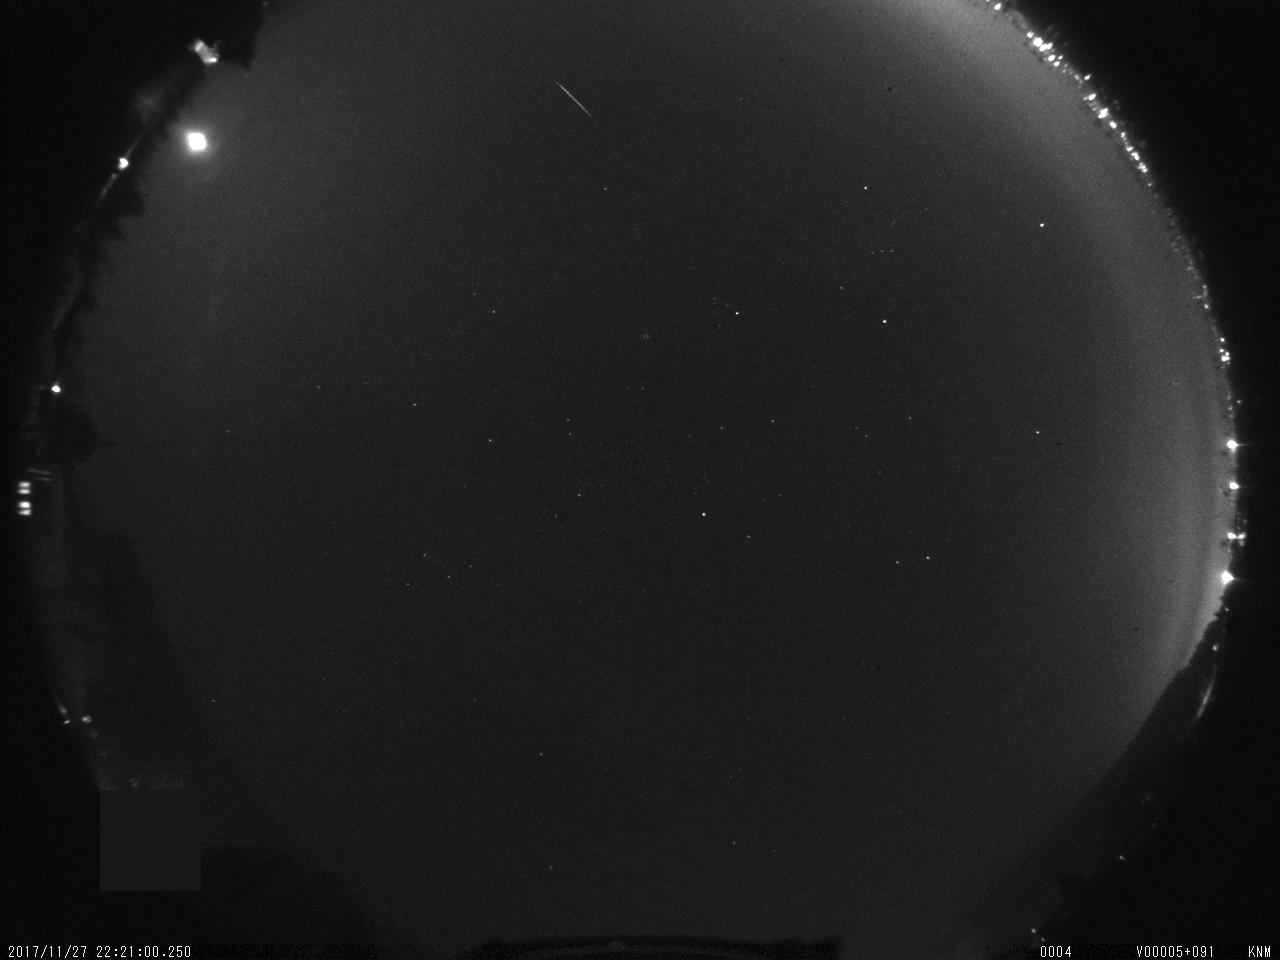meteor: (544, 74, 595, 121)
